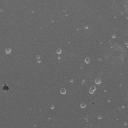corrosion: (93, 77, 103, 86), (89, 85, 97, 96), (83, 56, 92, 65), (1, 84, 11, 92), (55, 46, 63, 55), (35, 54, 42, 64), (4, 47, 12, 55), (59, 87, 67, 95), (79, 100, 86, 109), (96, 113, 103, 120), (50, 103, 56, 111), (111, 33, 117, 40), (68, 77, 74, 83), (84, 24, 89, 31), (107, 99, 111, 103)
